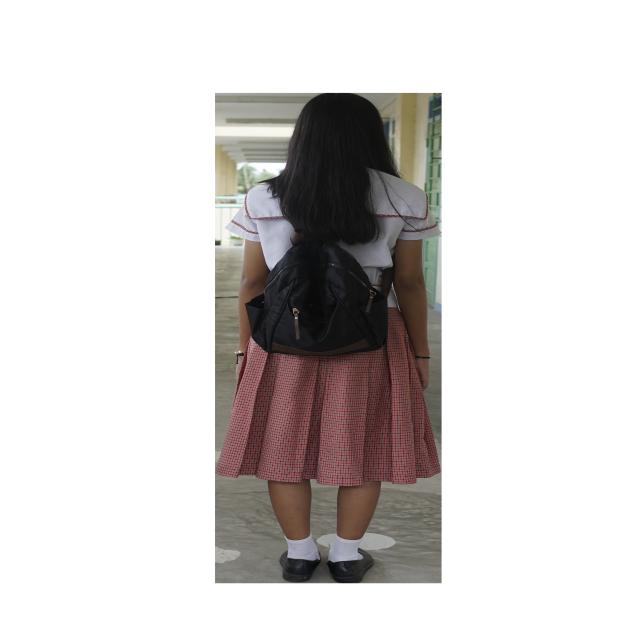shoes: (327, 549, 374, 583), (279, 551, 320, 582)
skirt: (216, 309, 440, 486)
